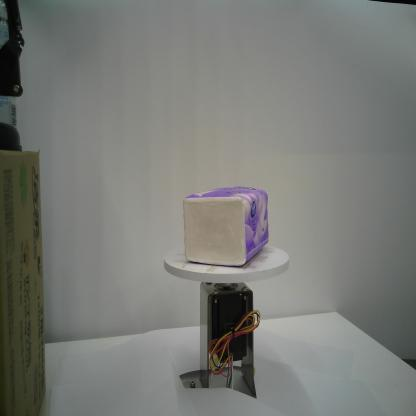Tissue: (182, 184, 271, 268)
